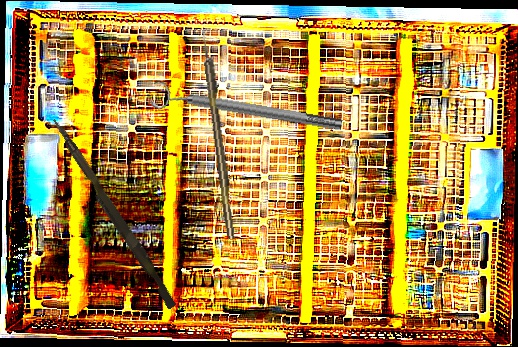Fixation Ring: (149, 77, 345, 142)
Hook Surgical: (200, 29, 236, 240)
Pusher: (44, 117, 182, 310)
